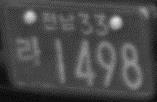1: (54, 37, 66, 85)
3: (77, 12, 94, 34), (94, 12, 108, 36)
4: (74, 39, 98, 87)
8: (119, 42, 144, 91)
9: (96, 39, 118, 88)
라: (15, 36, 44, 66)
전남_O: (41, 11, 75, 32)
